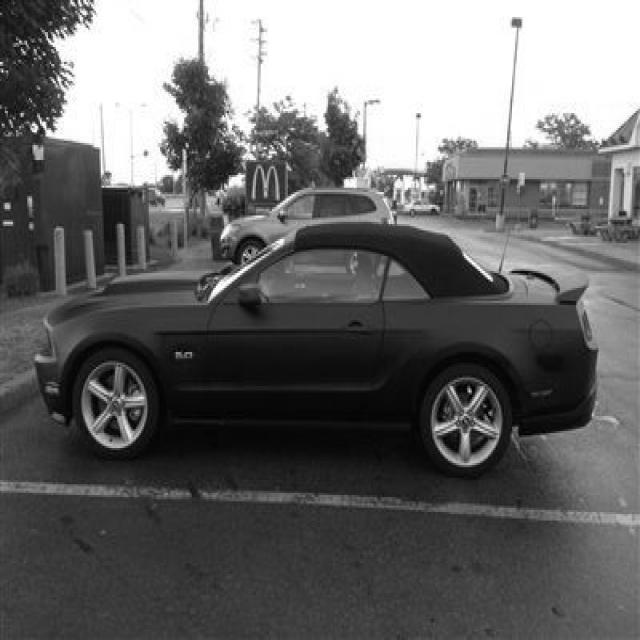Sedan: (33, 223, 599, 480)
